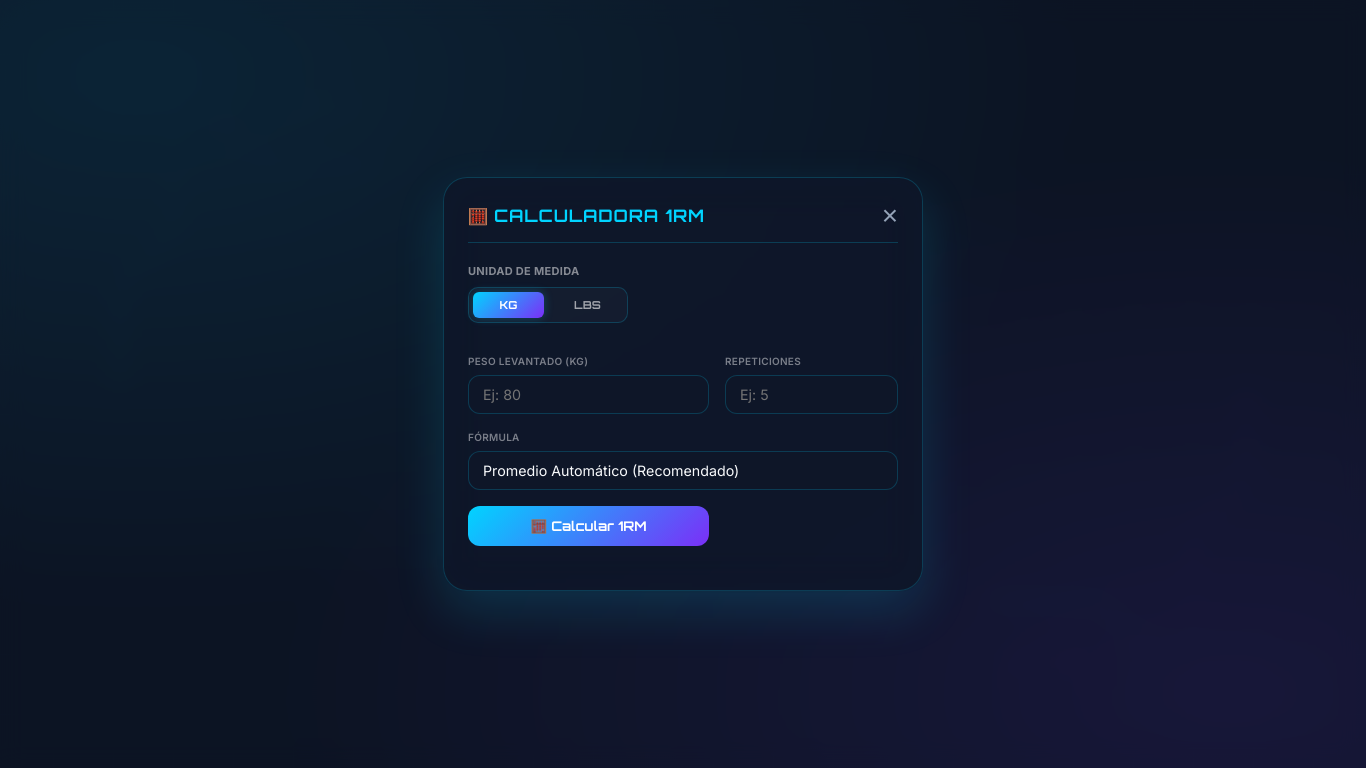
Test: RMCalculatorModal — cálculo del 1RM › fórmula Epley (peso=80, reps=5) → muestra resultado que empieza por "93." y la tabla de porcentajes
The width and height of the screenshot is (1366, 768).
Type "80" into the number field with placeholder "Ej: 80" at x=588, y=395, box [468,375,709,414]
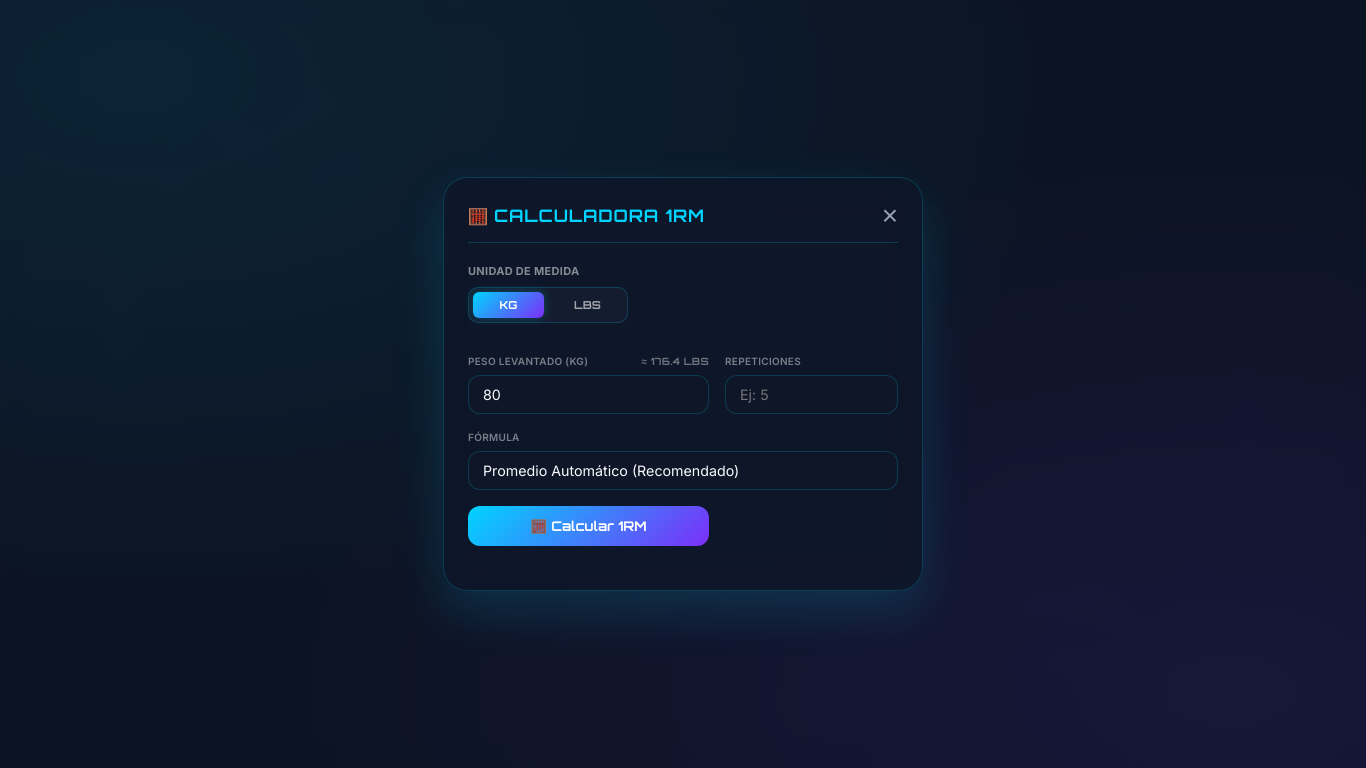
Type "5" into the number field with placeholder "Ej: 5" at x=812, y=395, box [725,375,898,414]
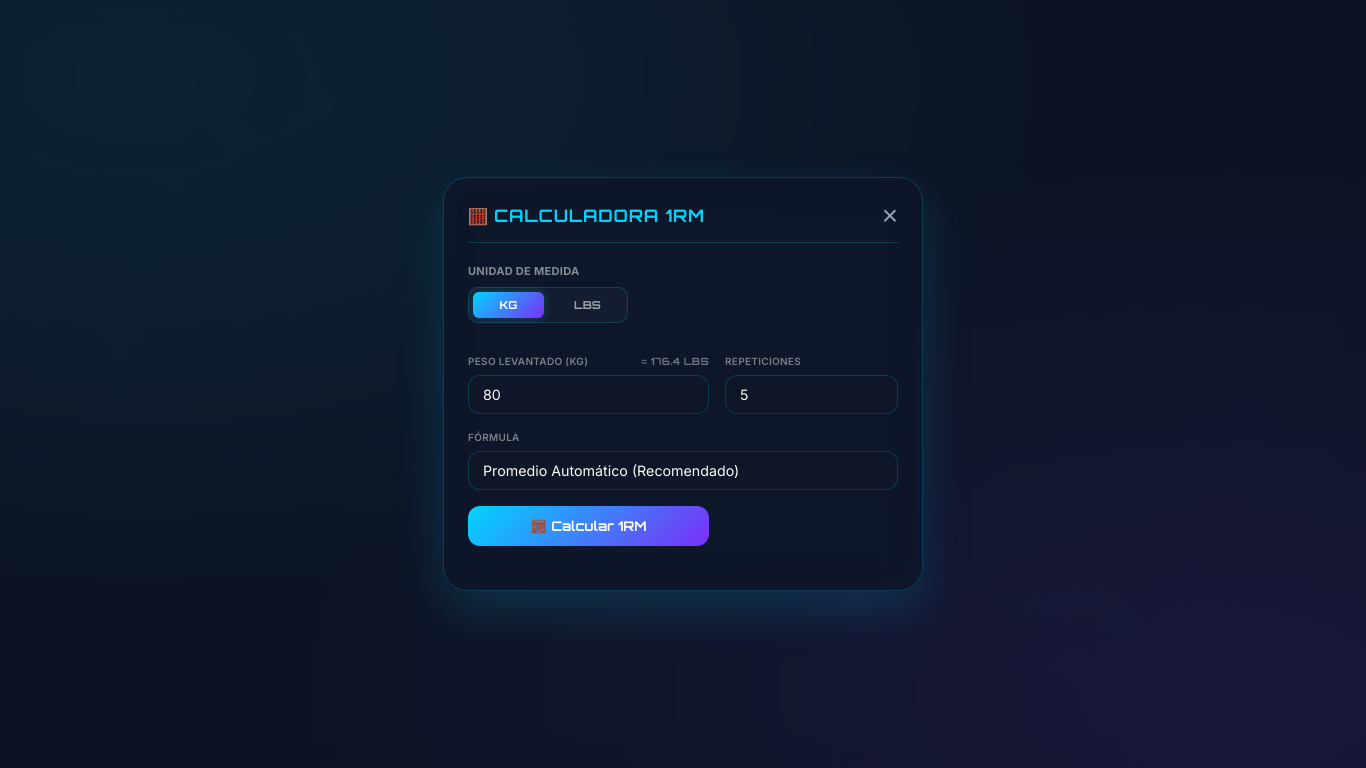
Select "Epley" in the dropdown with id "select1RMFormula" at x=683, y=471, box [468,451,898,490]
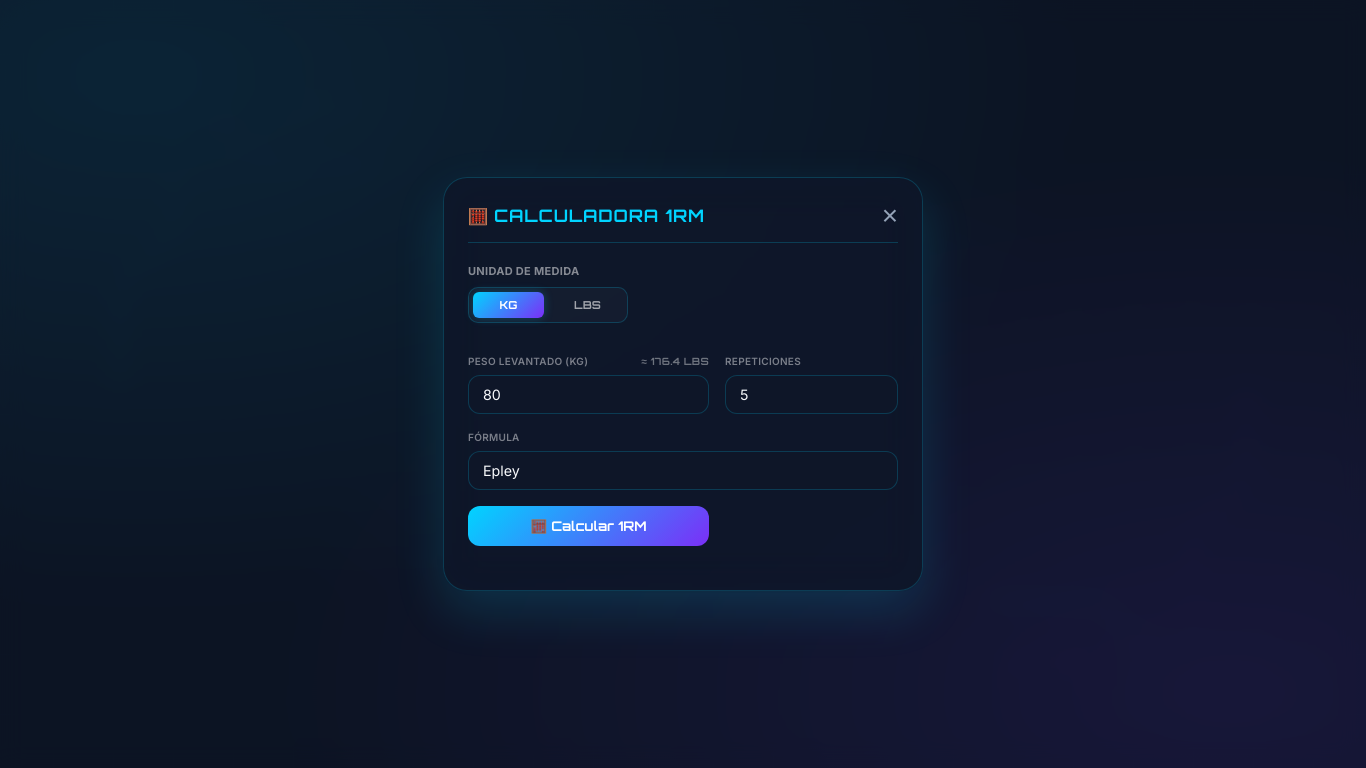
Click the button "🧮 Calcular 1RM" at x=588, y=526, box [468,506,709,546]
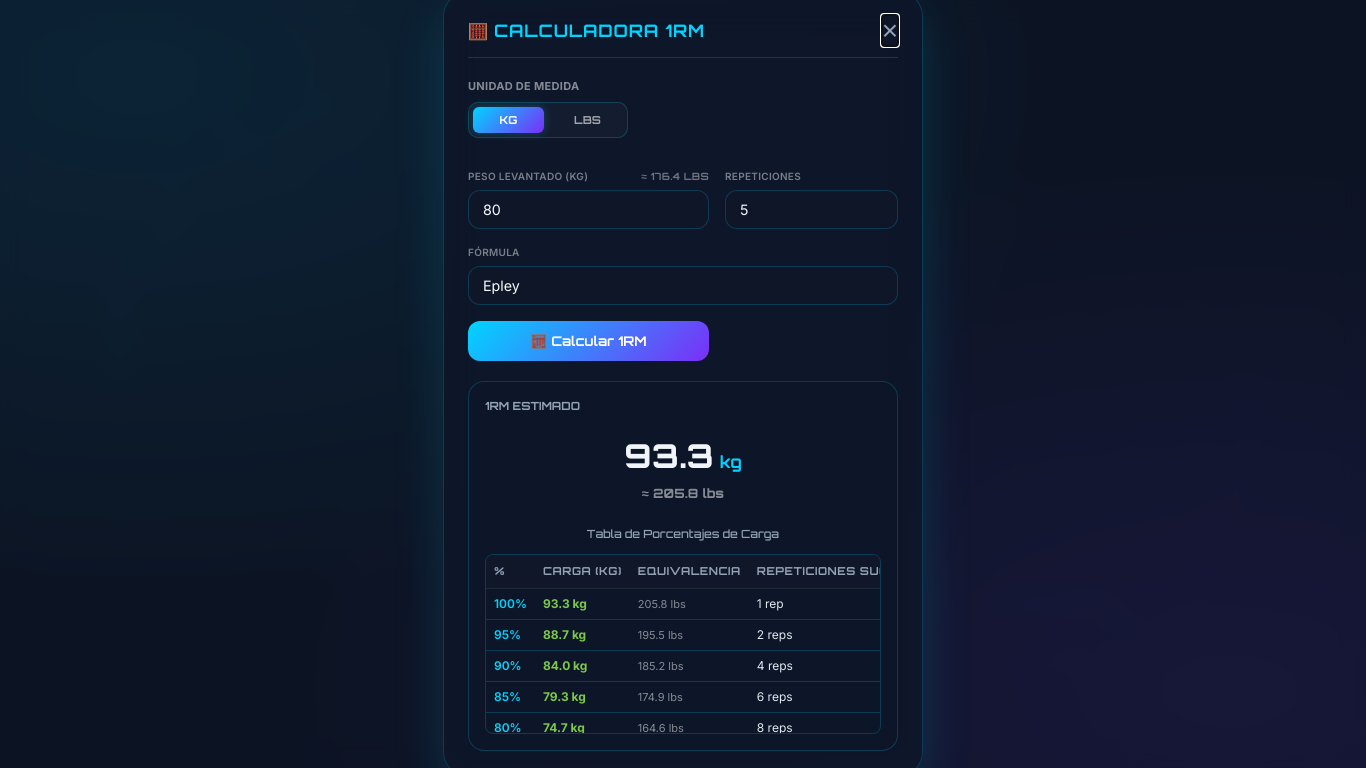
expect the text "93.3" is shown: met, box [624,431,714,480]
expect the text "Tabla de Porcentajes de Carga" is shown: met, box [587,527,779,541]
